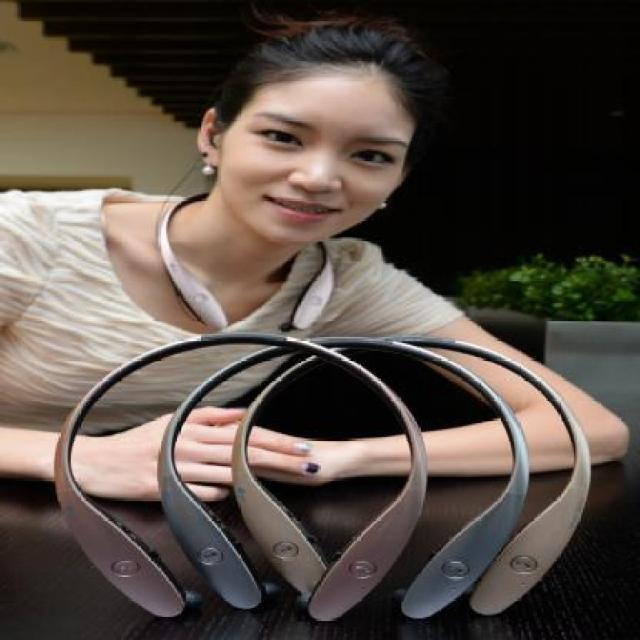earphone: (42, 321, 392, 620), (244, 328, 594, 620), (183, 336, 515, 612), (159, 186, 365, 326)
laptop_computer: (40, 335, 41, 339)
